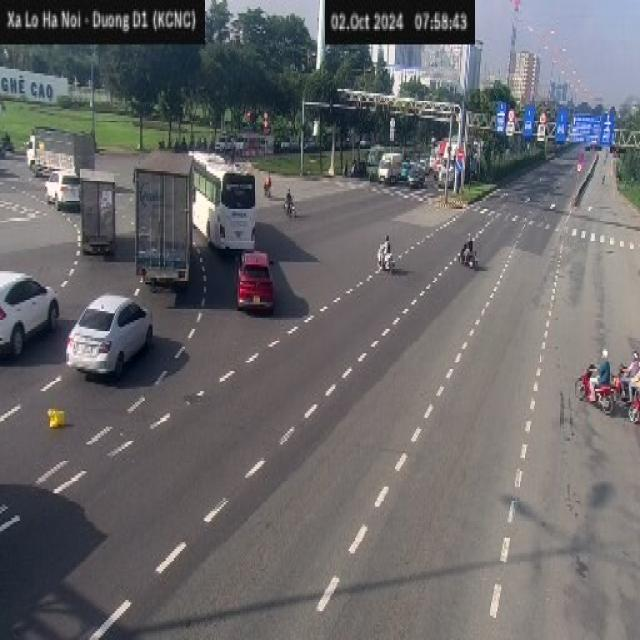bus: (190, 151, 255, 251)
car: (65, 293, 153, 380), (0, 269, 59, 358), (235, 249, 274, 313)
motorcycle: (458, 242, 478, 269), (376, 245, 395, 271)
person: (586, 347, 610, 400), (380, 233, 391, 269), (285, 187, 293, 213)
truck: (128, 141, 198, 301), (76, 163, 121, 264), (24, 122, 100, 181)
